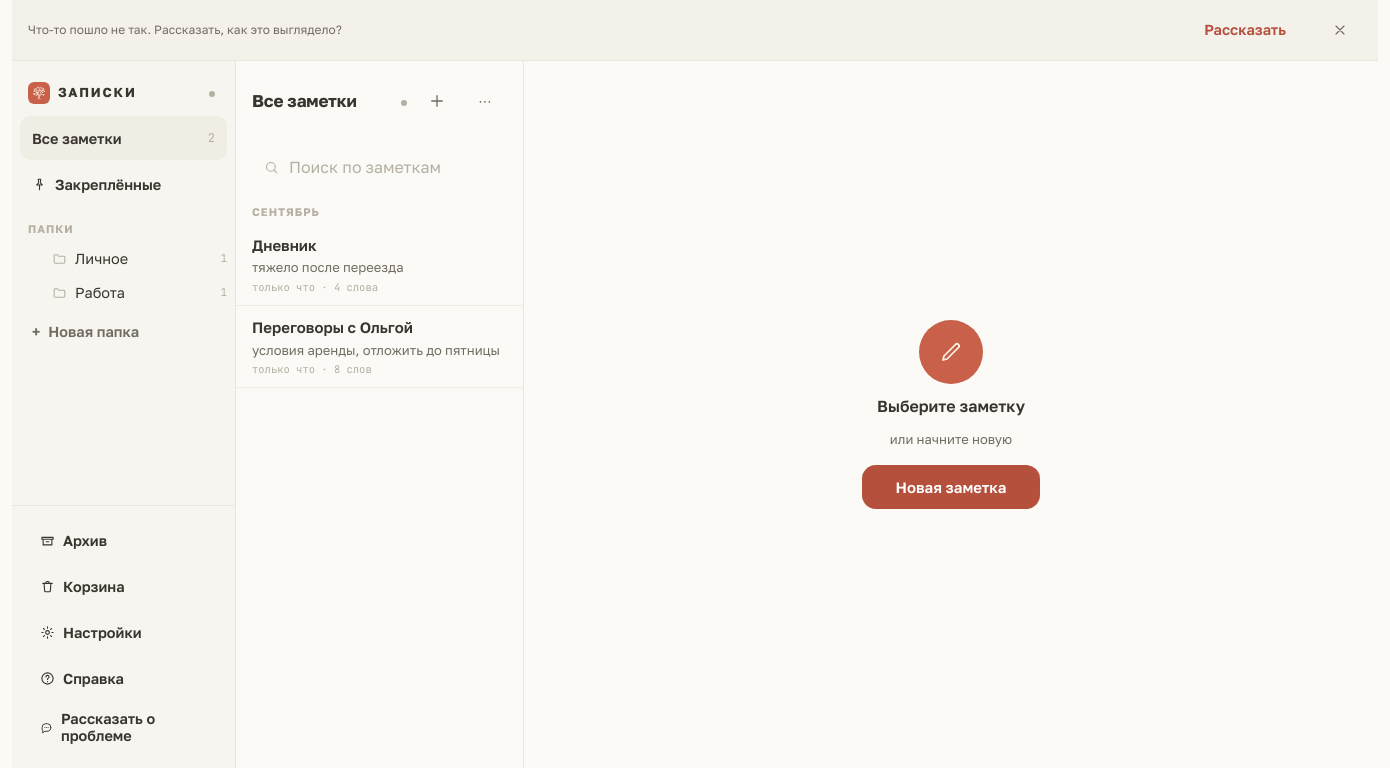
контекстная полоса › «Не сейчас» закрывает её и не возвращает назавтра
Expected: the text "Что-то пошло не так. Рассказать, как это выглядело?" is shown, [28, 22, 342, 37]
Click the button named "Не сейчас" at (1340, 30), box [1318, 8, 1362, 52]
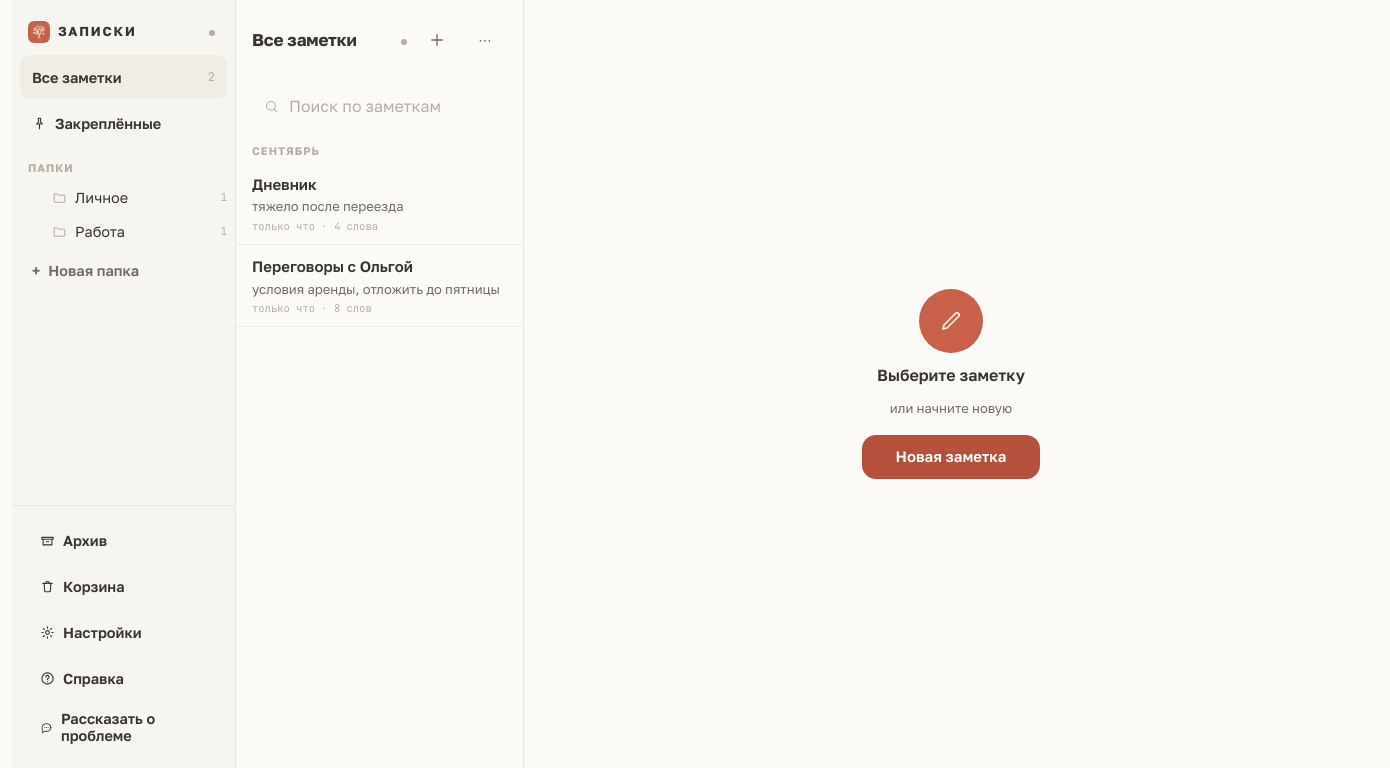
Expected: the text "Что-то пошло не так. Рассказать, как это выглядело?" is gone
